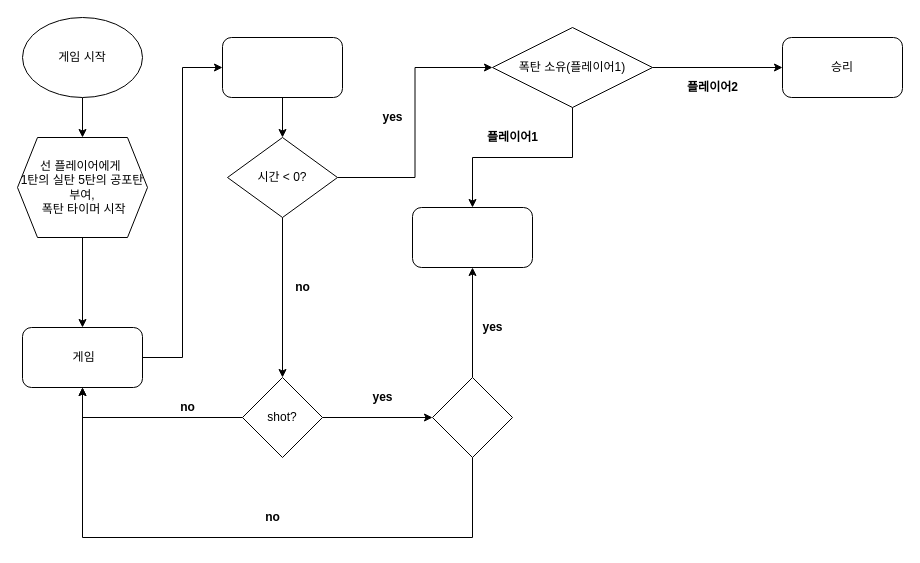
Image size: 920x563. Some labels were removed from this diagram. The centre of each missing label's shape, as x and y in pixels:
"실탄?" belongs at pixel 472 417.
"패배" belongs at pixel 472 237.
"폭탄 타이머 체크" belongs at pixel 282 67.
